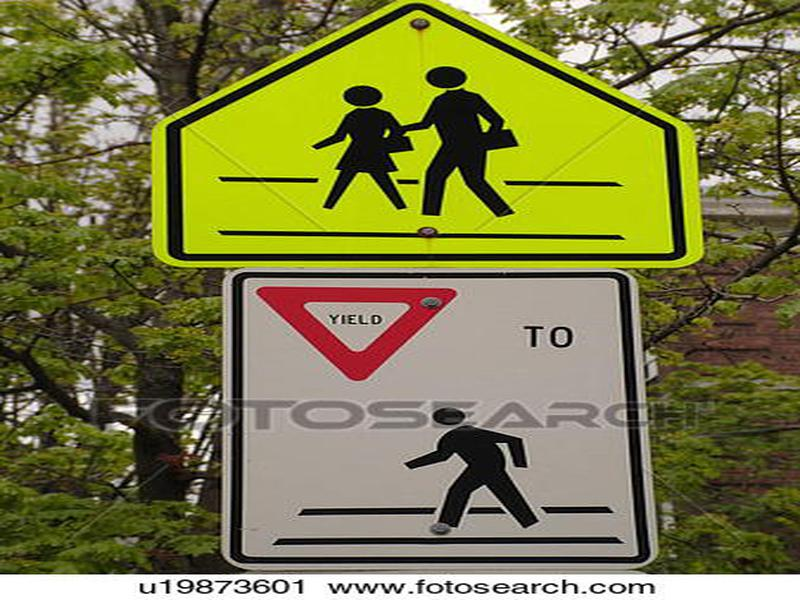slow: (143, 1, 712, 269)
